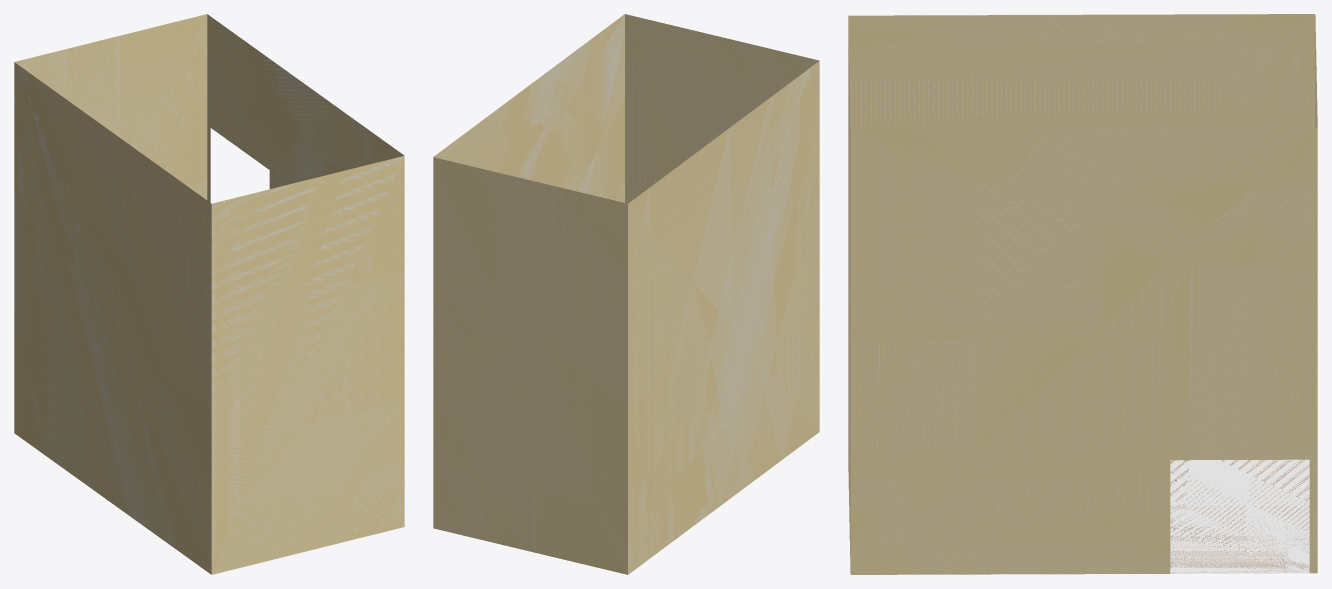
The model's file is CUA041.obj.
3 views of the same model, side by side, from view 1: azimuth 30°, elevation 25°; view 2: azimuth 150°, elevation 25°; view 3: azimuth 270°, elevation 25° (orthographic). The views are drawn at different scales.
Visible parts, largest first — view 1: Mesh1 CUA041 Model; view 2: Mesh1 CUA041 Model; view 3: Mesh1 CUA041 Model.
Boxes of the visible parts, bbox=[...] form: Mesh1 CUA041 Model: bbox=[14, 14, 404, 574]; Mesh1 CUA041 Model: bbox=[433, 14, 819, 574]; Mesh1 CUA041 Model: bbox=[848, 14, 1317, 574].
Bounding box in the file's own units: 1.66 × 3 × 2.86.
3 materials, 1 textured.
